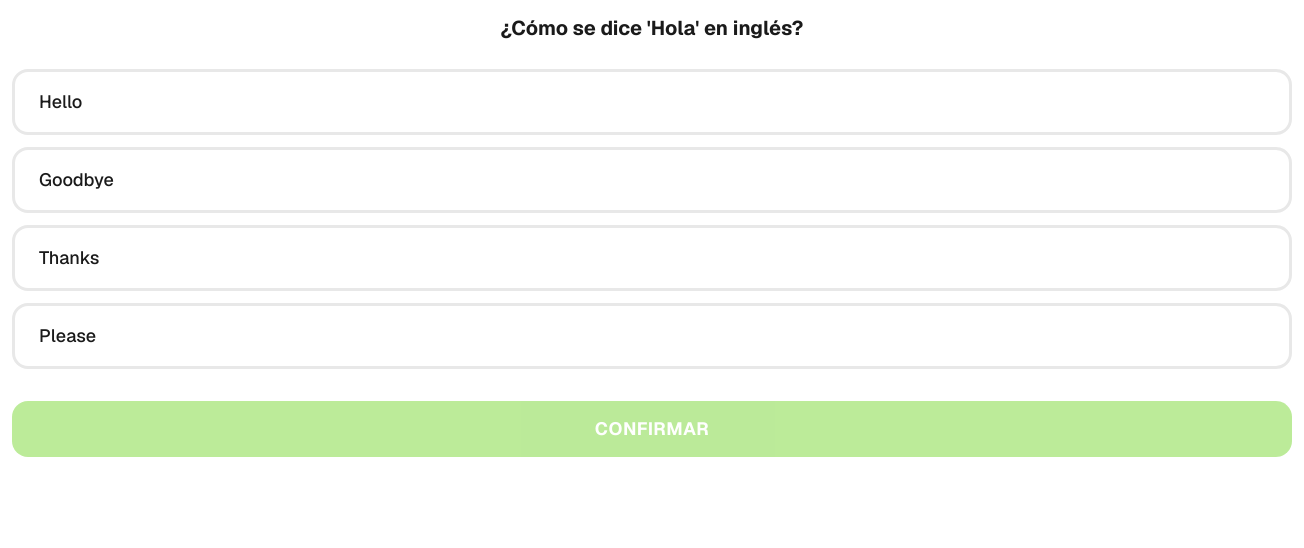
Test: ExerciseCard › muestra feedback ❌ y la respuesta correcta para una respuesta incorrecta
Click the button "Goodbye".
click(76, 179)  # box [12,146,1292,212]
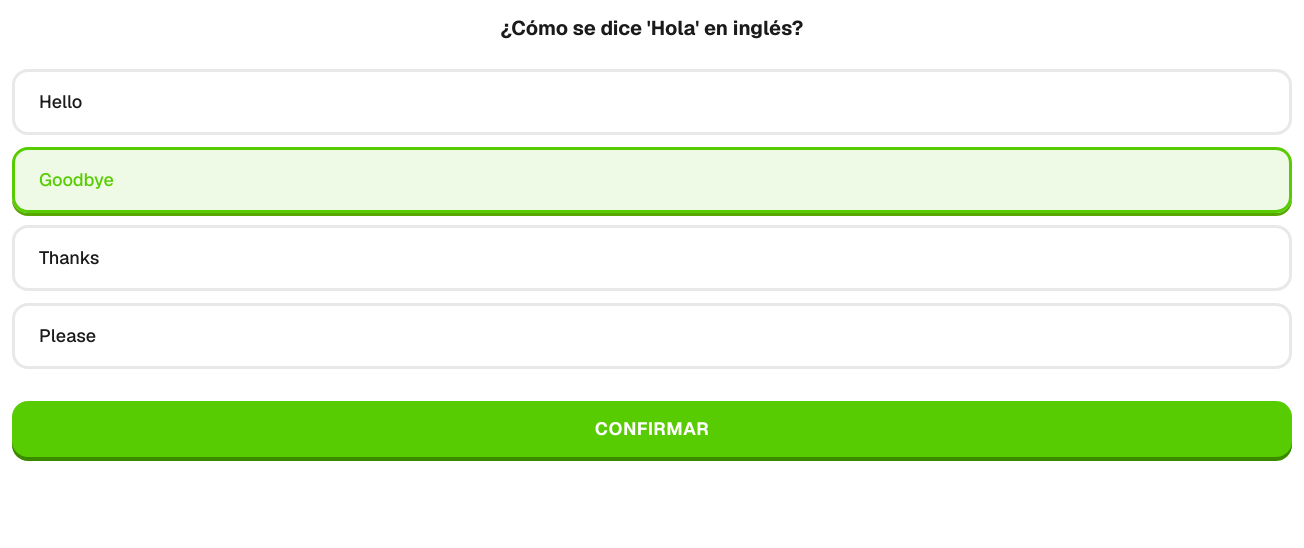
Click the button "confirmar".
click(652, 428)  # box [12,400,1292,456]
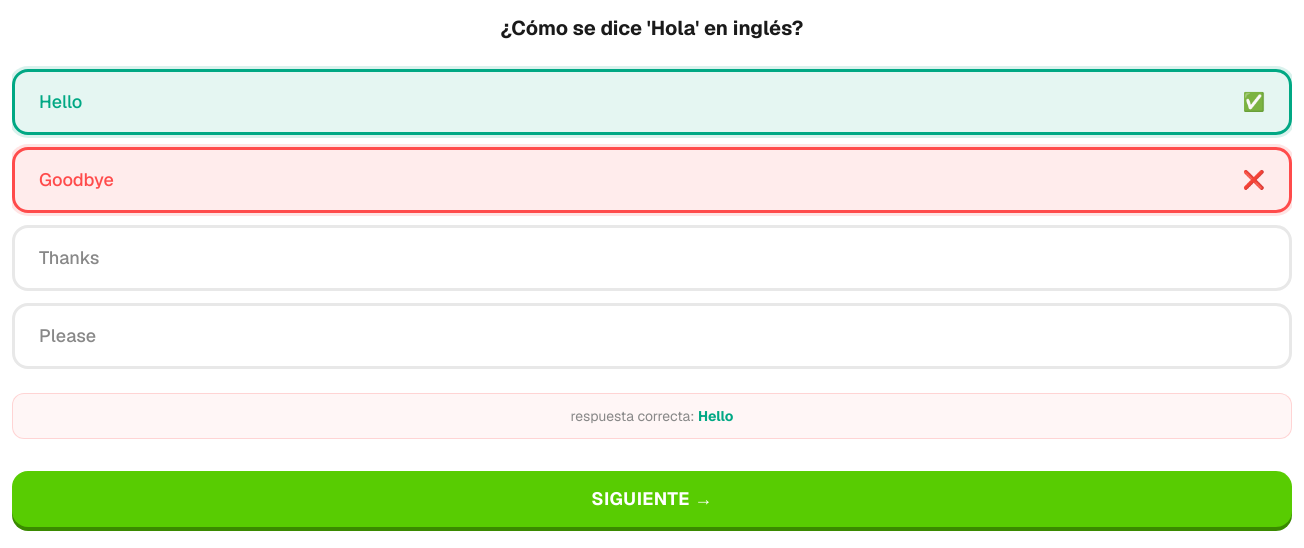
Expected: the text "❌" is shown, [1242,166,1265,194]
Expected: the text "respuesta correcta: Hello" is shown, [12,392,1292,438]
Expected: the button "siguiente →" is shown, [12,470,1292,526]
